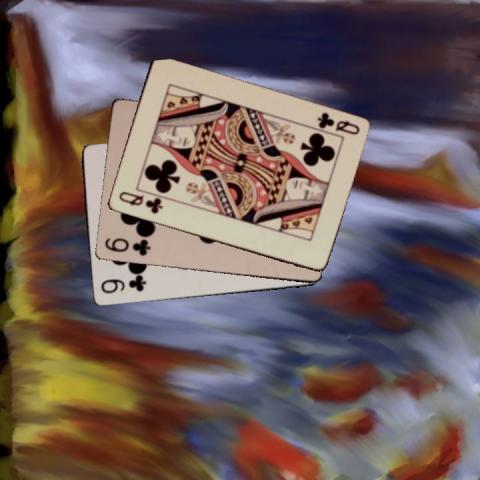6c: (101, 235, 152, 257)
9c: (97, 276, 147, 295)
Qc: (314, 109, 361, 137), (116, 189, 164, 215)
